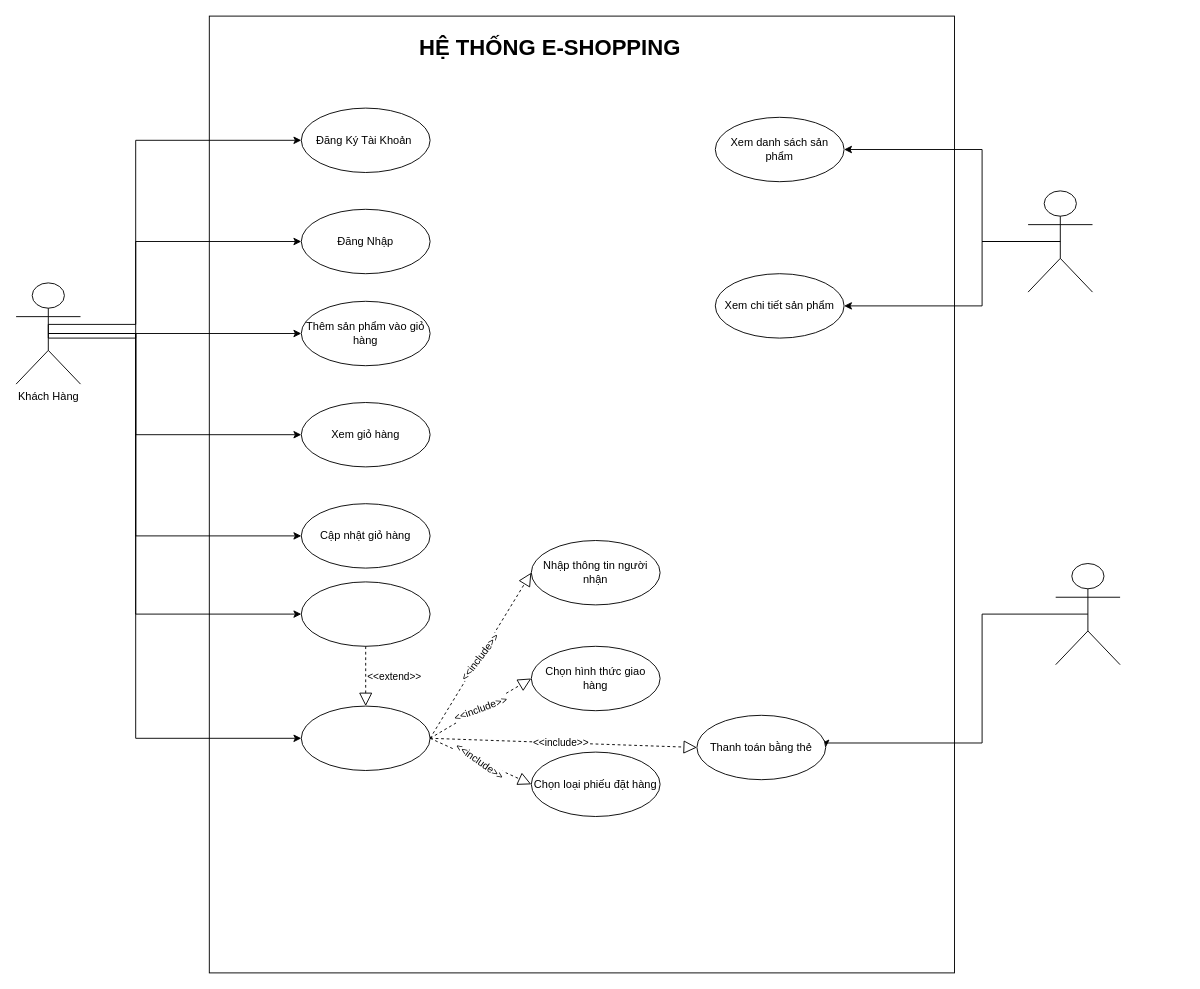
Some shapes in this 1200 by 989 pixel diagram are drawn without their labels. The box of each missing label's shape, as (x1, y1, x2, y2) in pixels:
Gửi email: (300, 581, 430, 646)
Hệ thống dịch vụ thanh toán trực tuyến: (1055, 563, 1120, 665)
Hệ thống quản lý sản phẩm: (1027, 190, 1092, 292)
Đặt hàng / Tính tiền: (300, 705, 430, 770)
